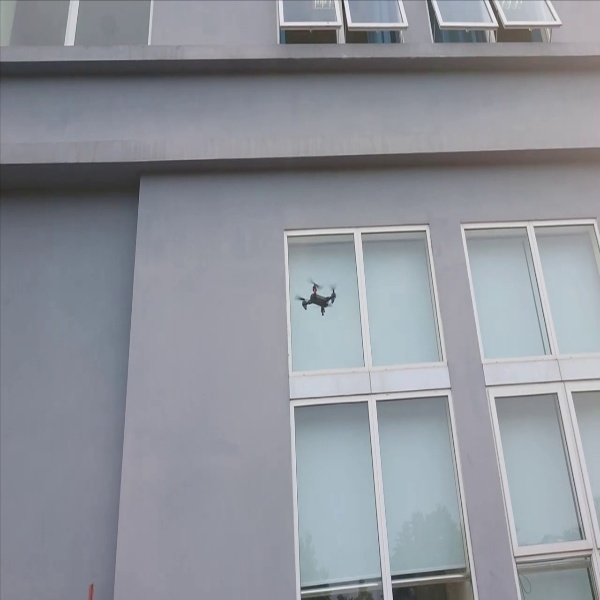drone: (293, 269, 344, 316)
